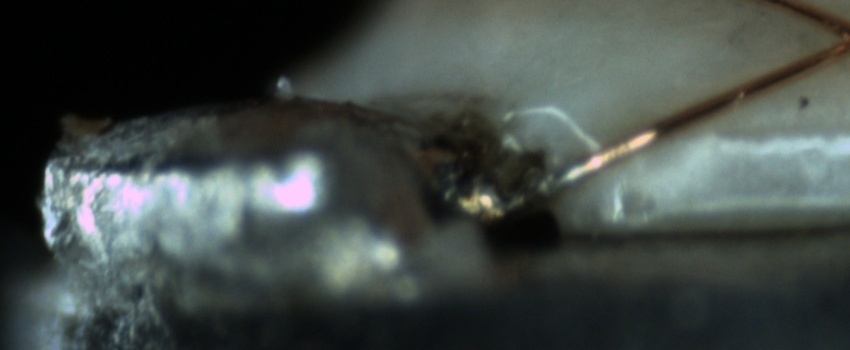CL: (811, 12, 849, 60)
DL: (680, 108, 850, 172)
